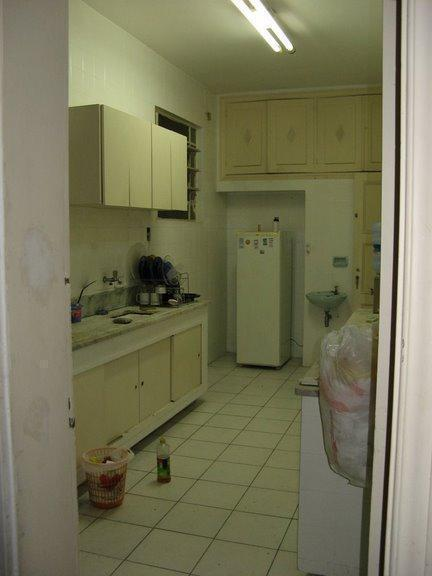Bote de Basura: (79, 445, 137, 513)
Electrodomestico: (236, 229, 290, 368)
Lavamanos: (305, 282, 344, 330)
Lavaplatos: (103, 271, 157, 323)
Otro Obstaculo: (315, 322, 377, 490), (153, 431, 178, 489)
